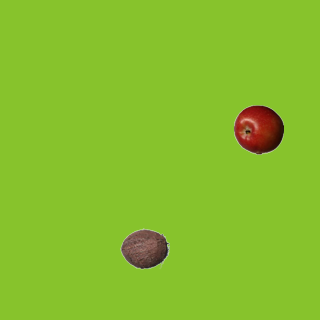Apple Braeburn: (233, 104, 283, 154)
Cocos: (119, 223, 169, 273)
